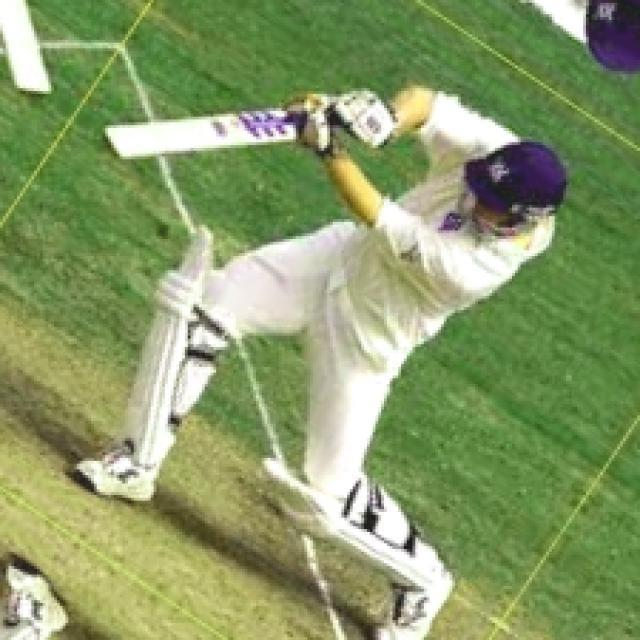bat: (89, 105, 302, 164)
toe: (101, 133, 121, 164)
